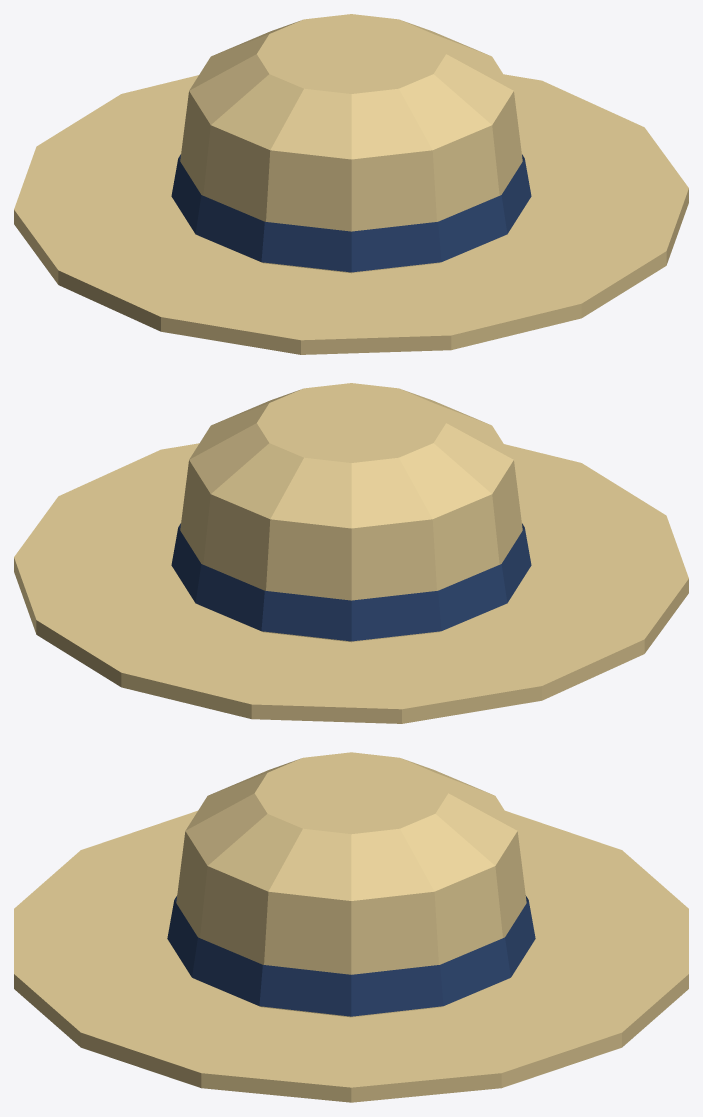
The model's file is strawhat.glb.
3 renders of one model, top to bottom at view 1: azimuth 30°, elevation 25°; view 2: azimuth 150°, elevation 25°; view 3: azimuth 270°, elevation 25°, orthographic. The views are drawn at different scales.
Visible parts, largest first — view 1: strawhat; view 2: strawhat; view 3: strawhat.
Boxes of the visible parts, x1,y1,x2,y2 form: strawhat: (14, 14, 688, 354); strawhat: (14, 383, 688, 723); strawhat: (14, 752, 688, 1102).
Bounding box in the file's own units: 0.5 × 0.13 × 0.4875.
